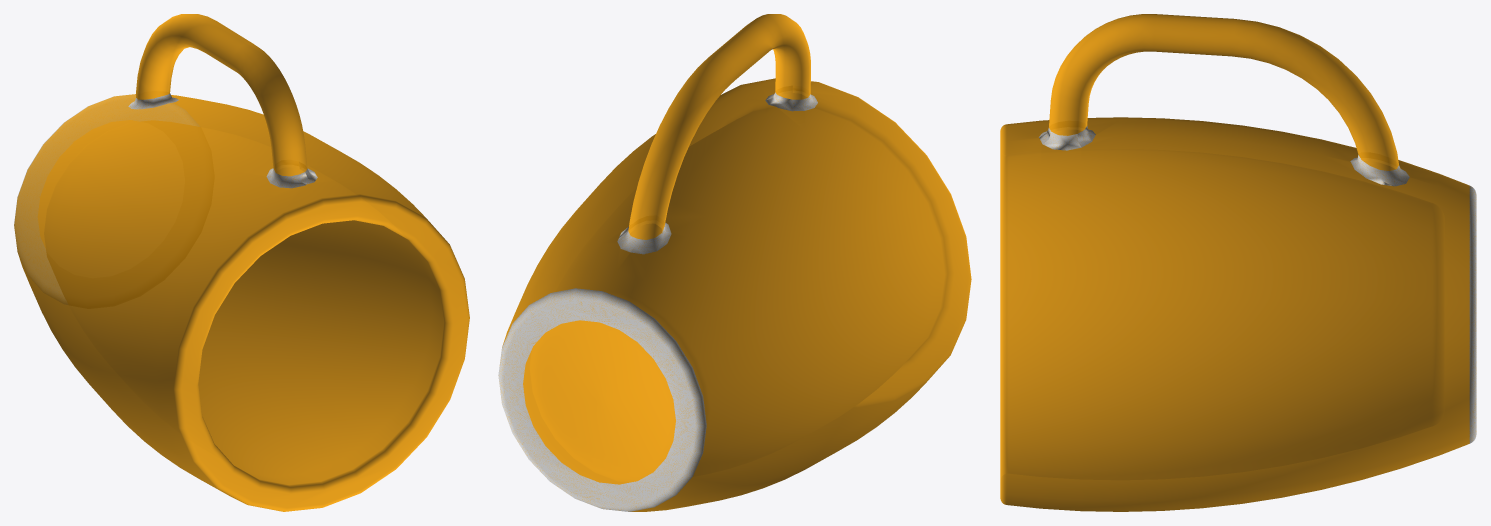
File: model_align.obj
3 renders of one model, left to right at view 1: azimuth 30°, elevation 25°; view 2: azimuth 150°, elevation 25°; view 3: azimuth 270°, elevation 25°, orthographic. The views are drawn at different scales.
Visible parts, largest first — view 1: mesh1_mesh1-geometry; view 2: mesh1_mesh1-geometry; view 3: mesh1_mesh1-geometry.
Part boxes in pixels (x1,y1,x2,y2): mesh1_mesh1-geometry: [14, 14, 469, 511]; mesh1_mesh1-geometry: [498, 14, 971, 511]; mesh1_mesh1-geometry: [1000, 14, 1476, 511].
Bounding box in the file's own units: 0.0847 × 0.1117 × 0.1018.
